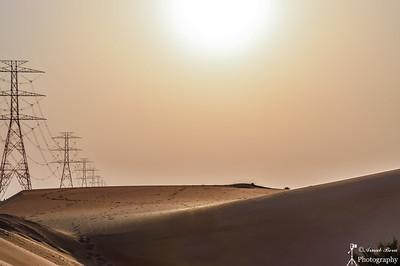power_tower: (0, 54, 45, 198), (49, 126, 83, 192)
